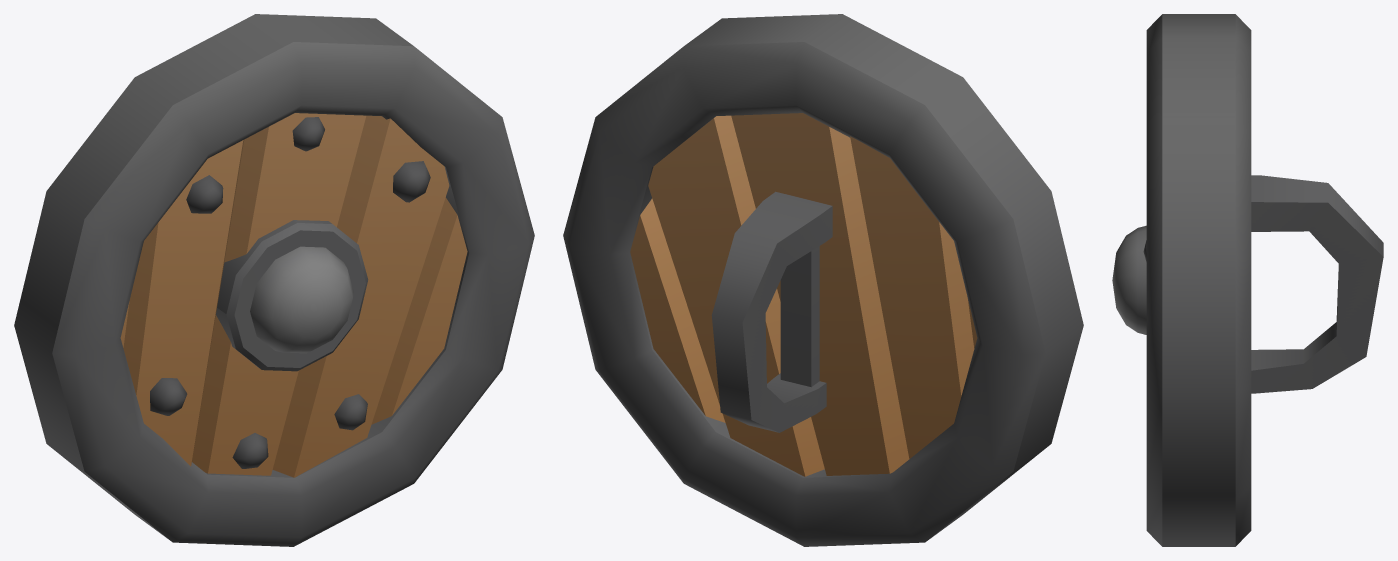
Rendered from Shield_RHand_2.fbx.
The picture shows the model from 3 angles, left to right: view 1: azimuth 30°, elevation 25°; view 2: azimuth 150°, elevation 25°; view 3: azimuth 270°, elevation 25°; orthographic projection. The views are drawn at different scales.
Visible parts, largest first — view 1: Shield_RHand_2; view 2: Shield_RHand_2; view 3: Shield_RHand_2.
Boxes of the visible parts, bbox=[...] form: Shield_RHand_2: bbox=[14, 14, 534, 546]; Shield_RHand_2: bbox=[563, 14, 1083, 546]; Shield_RHand_2: bbox=[1112, 14, 1383, 546].
Bounding box in the file's own units: 50.27 × 50.27 × 25.49.
